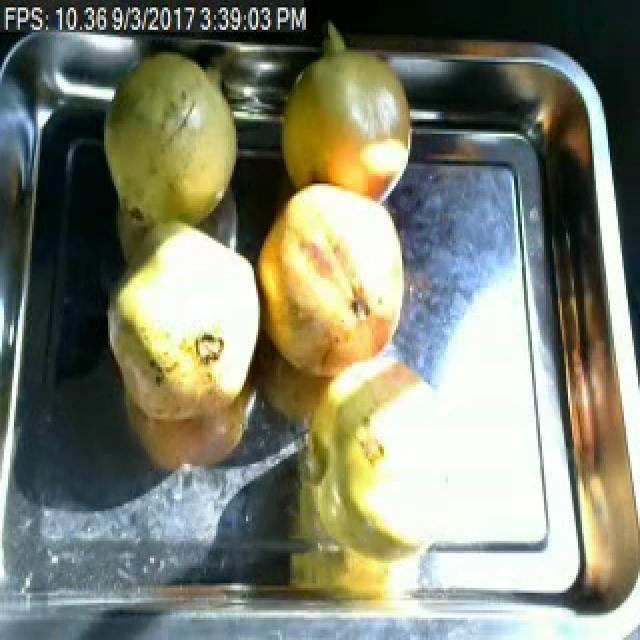fruit: (96, 201, 266, 437), (254, 171, 414, 390), (96, 42, 246, 241), (266, 37, 418, 206)
